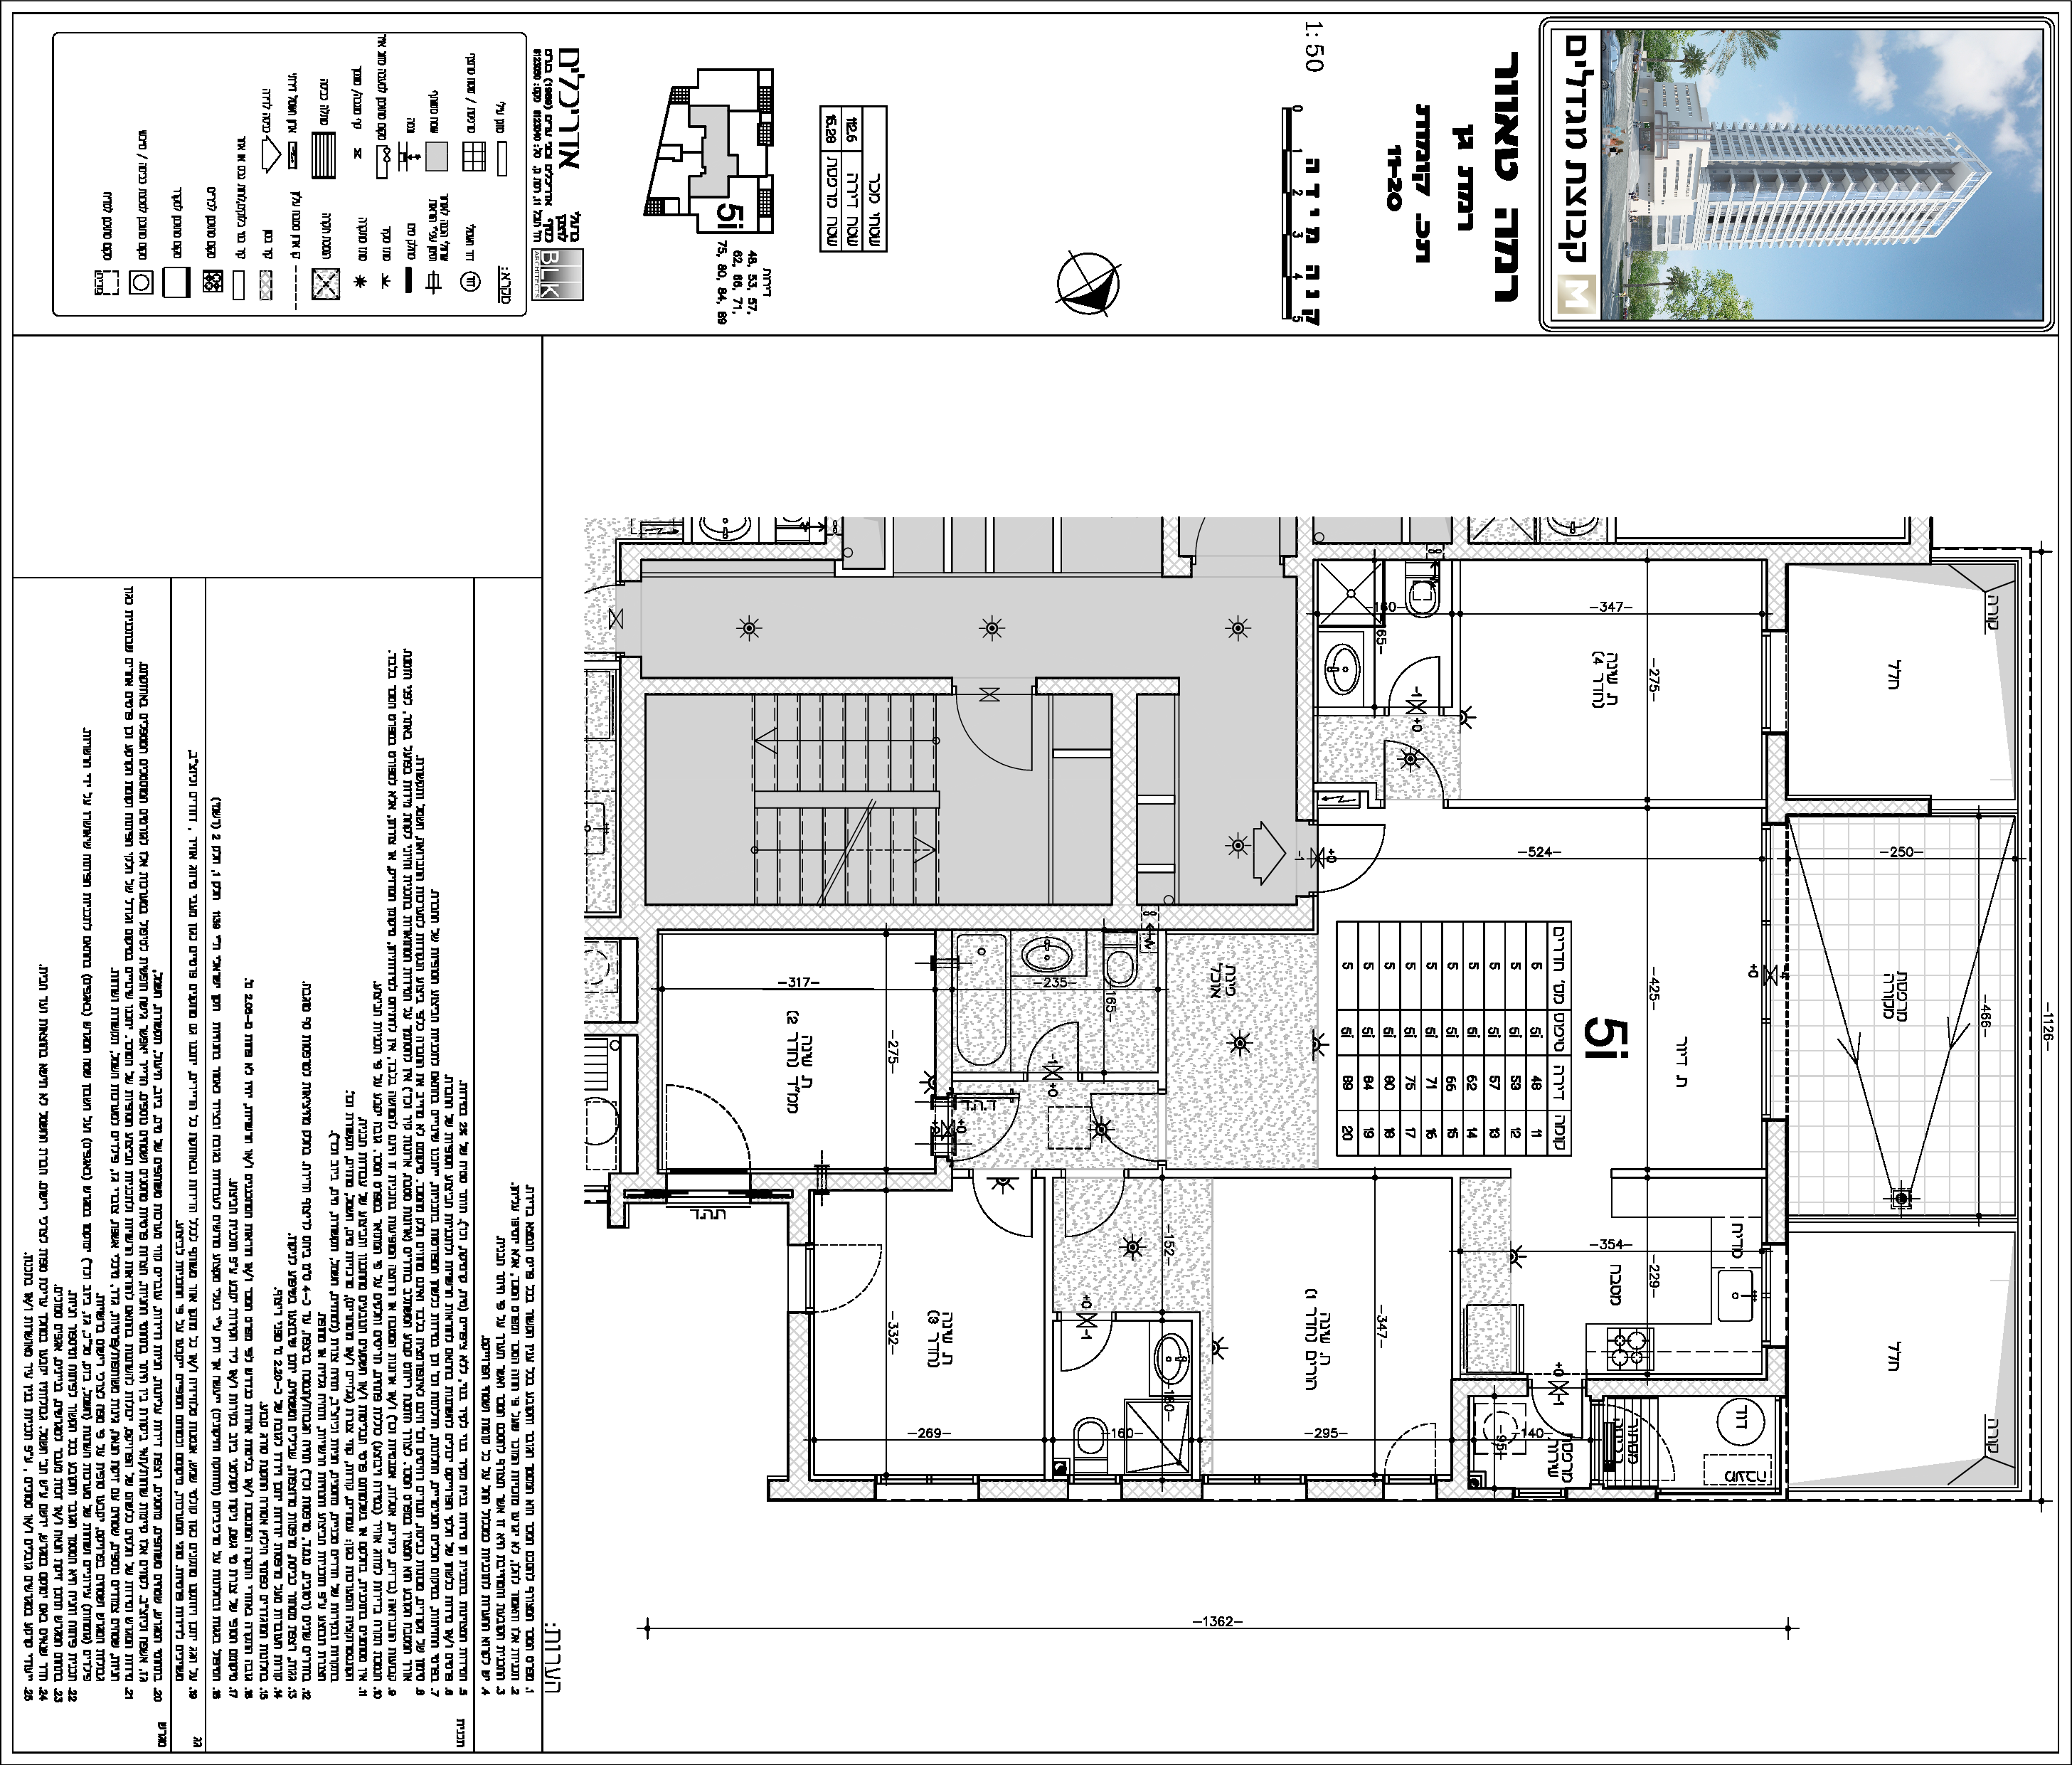door: (663, 1073, 759, 1164), (947, 700, 1041, 777), (819, 1238, 889, 1317), (1326, 819, 1395, 897), (1059, 1178, 1132, 1243), (968, 1184, 1038, 1248), (1384, 644, 1451, 706), (1381, 735, 1447, 795), (1025, 1016, 1085, 1066)
wall: (646, 907, 1316, 926), (1314, 545, 1769, 559), (619, 658, 640, 921), (1113, 693, 1136, 904), (646, 679, 950, 693), (787, 1311, 808, 1502), (1297, 576, 1312, 819), (1036, 679, 1179, 692)
window: (1762, 825, 1788, 1121), (1762, 630, 1788, 734), (1762, 1245, 1788, 1345), (875, 1476, 978, 1501), (1204, 1476, 1307, 1501)
